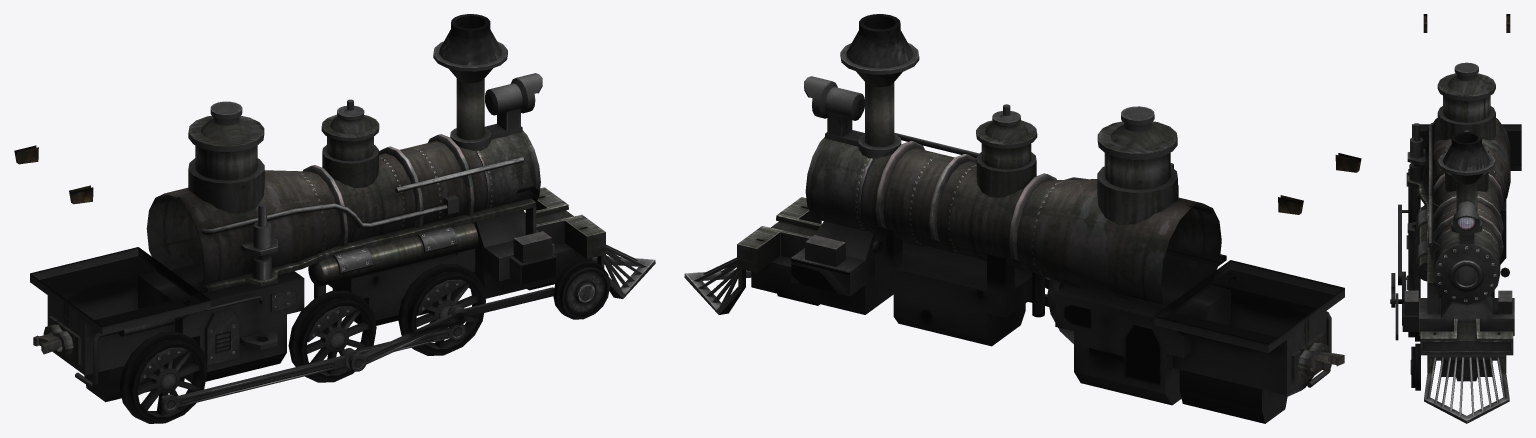
Rendered from Locomotive_Fix_v03.fbx.
3 renders of one model, left to right at view 1: azimuth 30°, elevation 25°; view 2: azimuth 150°, elevation 25°; view 3: azimuth 270°, elevation 25°, orthographic. The views are drawn at different scales.
Parts seen in each view (by area): view 1: Cube.226, Cube.005, Cube.001, Cube.006, Cube.003; view 2: Cube.226; view 3: Cube.226, Cube.003, Cube.005, Cube.001, Cube.006.
Boxes of the visible parts, x1,y1,x2,y2 form: Cube.226: (14, 14, 655, 412); Cube.005: (119, 332, 207, 423); Cube.001: (288, 290, 376, 382); Cube.006: (398, 264, 485, 355); Cube.003: (553, 260, 610, 319); Cube.226: (684, 14, 1361, 423); Cube.226: (1390, 14, 1521, 423); Cube.003: (1410, 343, 1420, 390); Cube.005: (1406, 169, 1420, 223); Cube.001: (1406, 227, 1417, 272); Cube.006: (1406, 267, 1420, 341).
Size of the model in its own units: 1444 by 655 by 350.
